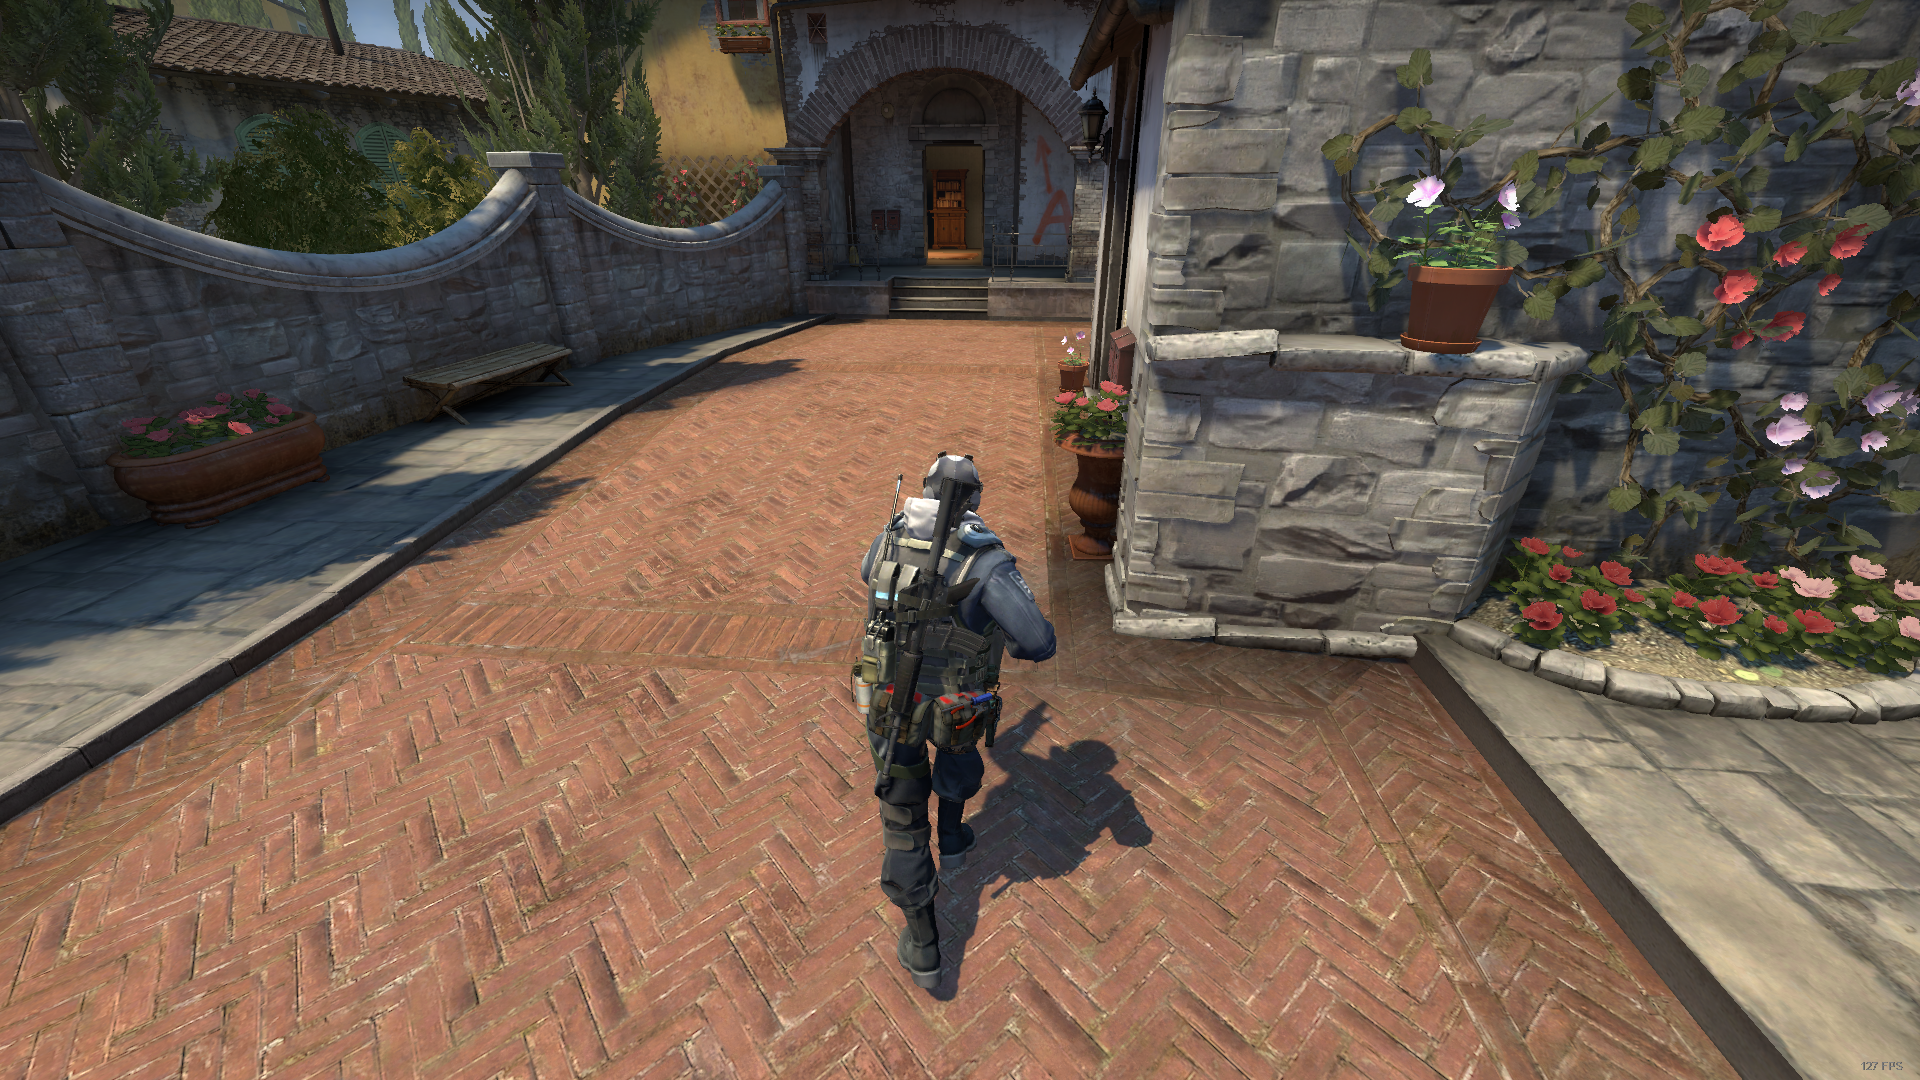ct: (860, 454, 1059, 992)
